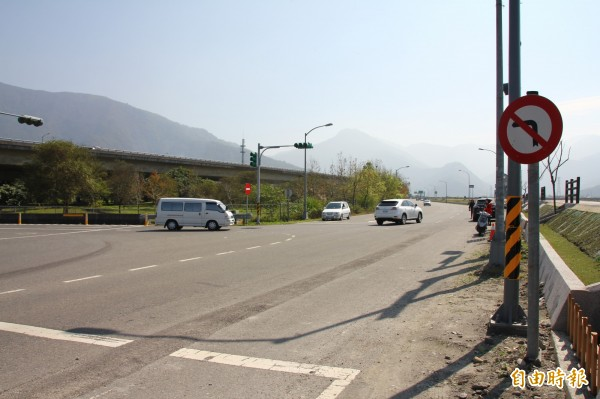No_left_turn: (497, 95, 563, 164)
